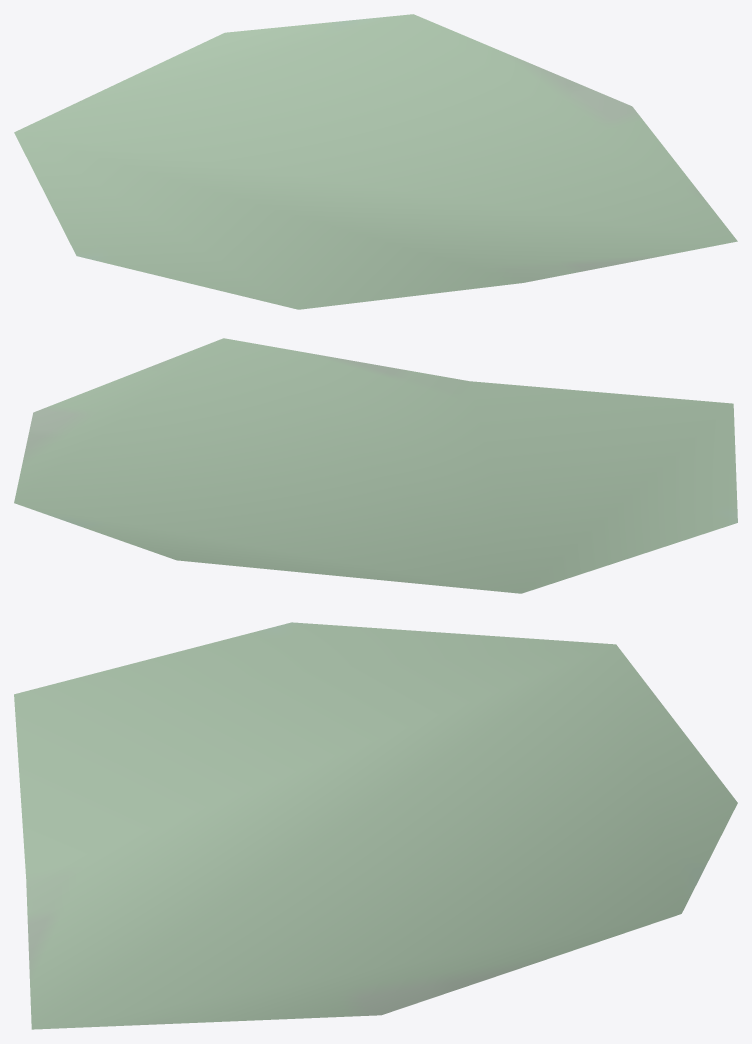
Rendered from TROLLHOLE02_HOLECAP70.fbx.
3 views of the same model, one above another, from view 1: azimuth 30°, elevation 25°; view 2: azimuth 150°, elevation 25°; view 3: azimuth 270°, elevation 25° (orthographic). The views are drawn at different scales.
Visible parts, largest first — view 1: TROLLHOLE02_HOLECAP70; view 2: TROLLHOLE02_HOLECAP70; view 3: TROLLHOLE02_HOLECAP70.
Boxes of the visible parts, x1,y1,x2,y2 form: TROLLHOLE02_HOLECAP70: (14, 14, 737, 309); TROLLHOLE02_HOLECAP70: (14, 338, 737, 593); TROLLHOLE02_HOLECAP70: (14, 622, 737, 1029).
Bounding box in the file's own units: 18102 × 1847 × 15090.
Materials: 1 (1 with a texture image).
